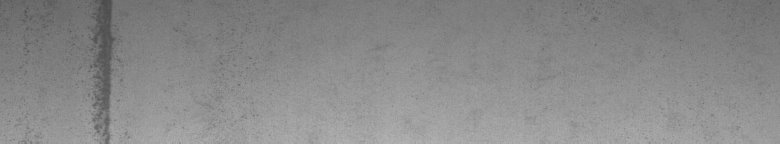hd: (20, 4, 122, 136)
